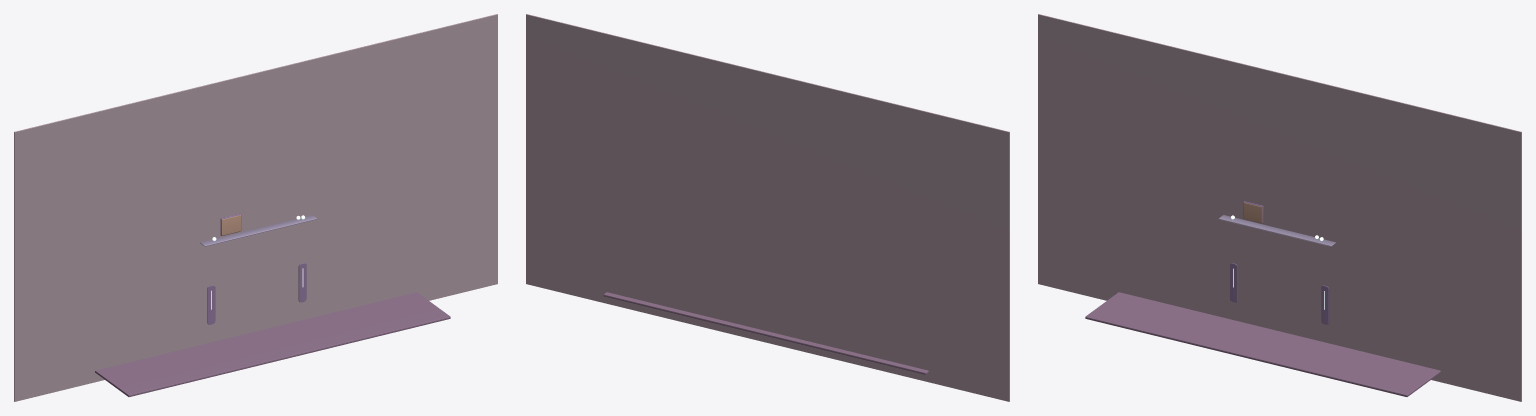
File: backdrop_hopper.glb
3 views of the same model, side by side, from view 1: azimuth 30°, elevation 25°; view 2: azimuth 150°, elevation 25°; view 3: azimuth 330°, elevation 25° (orthographic).
Visible parts, largest first — view 1: Plain walls, Wide lavender carpet, Quiet ledge; view 2: Plain walls, Wide lavender carpet; view 3: Plain walls, Wide lavender carpet, Quiet ledge.
Boxes of the visible parts, box(x1,y1,x2,y2) form: Plain walls: box(14, 14, 497, 401); Wide lavender carpet: box(95, 292, 450, 396); Quiet ledge: box(200, 215, 317, 246); Plain walls: box(526, 14, 1009, 401); Wide lavender carpet: box(603, 292, 928, 374); Plain walls: box(1038, 14, 1521, 401); Wide lavender carpet: box(1085, 292, 1440, 396); Quiet ledge: box(1218, 215, 1335, 246).
Bounding box in the file's own units: 60 × 32 × 8.
